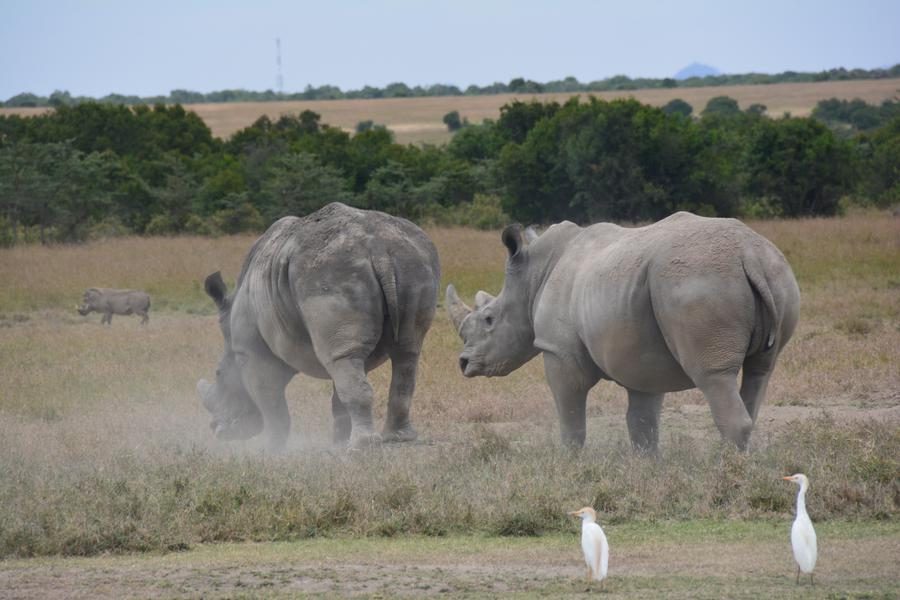rhino: (470, 216, 782, 433), (197, 212, 410, 439)
